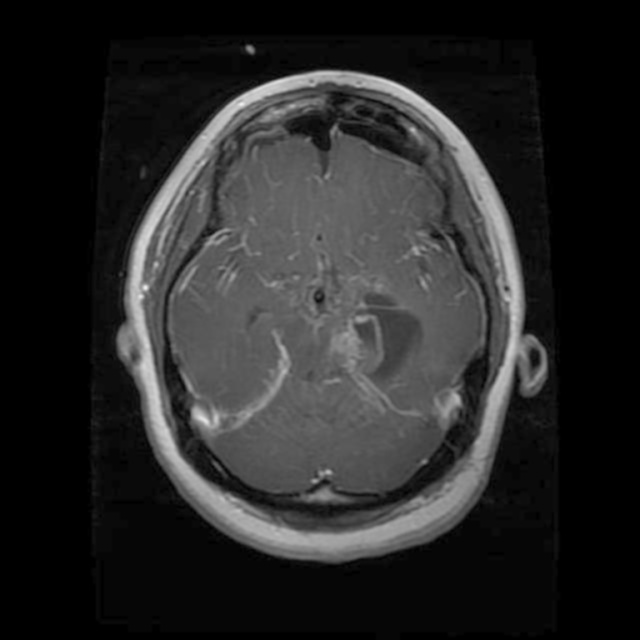pituitary tumor: (326, 300, 412, 378)
